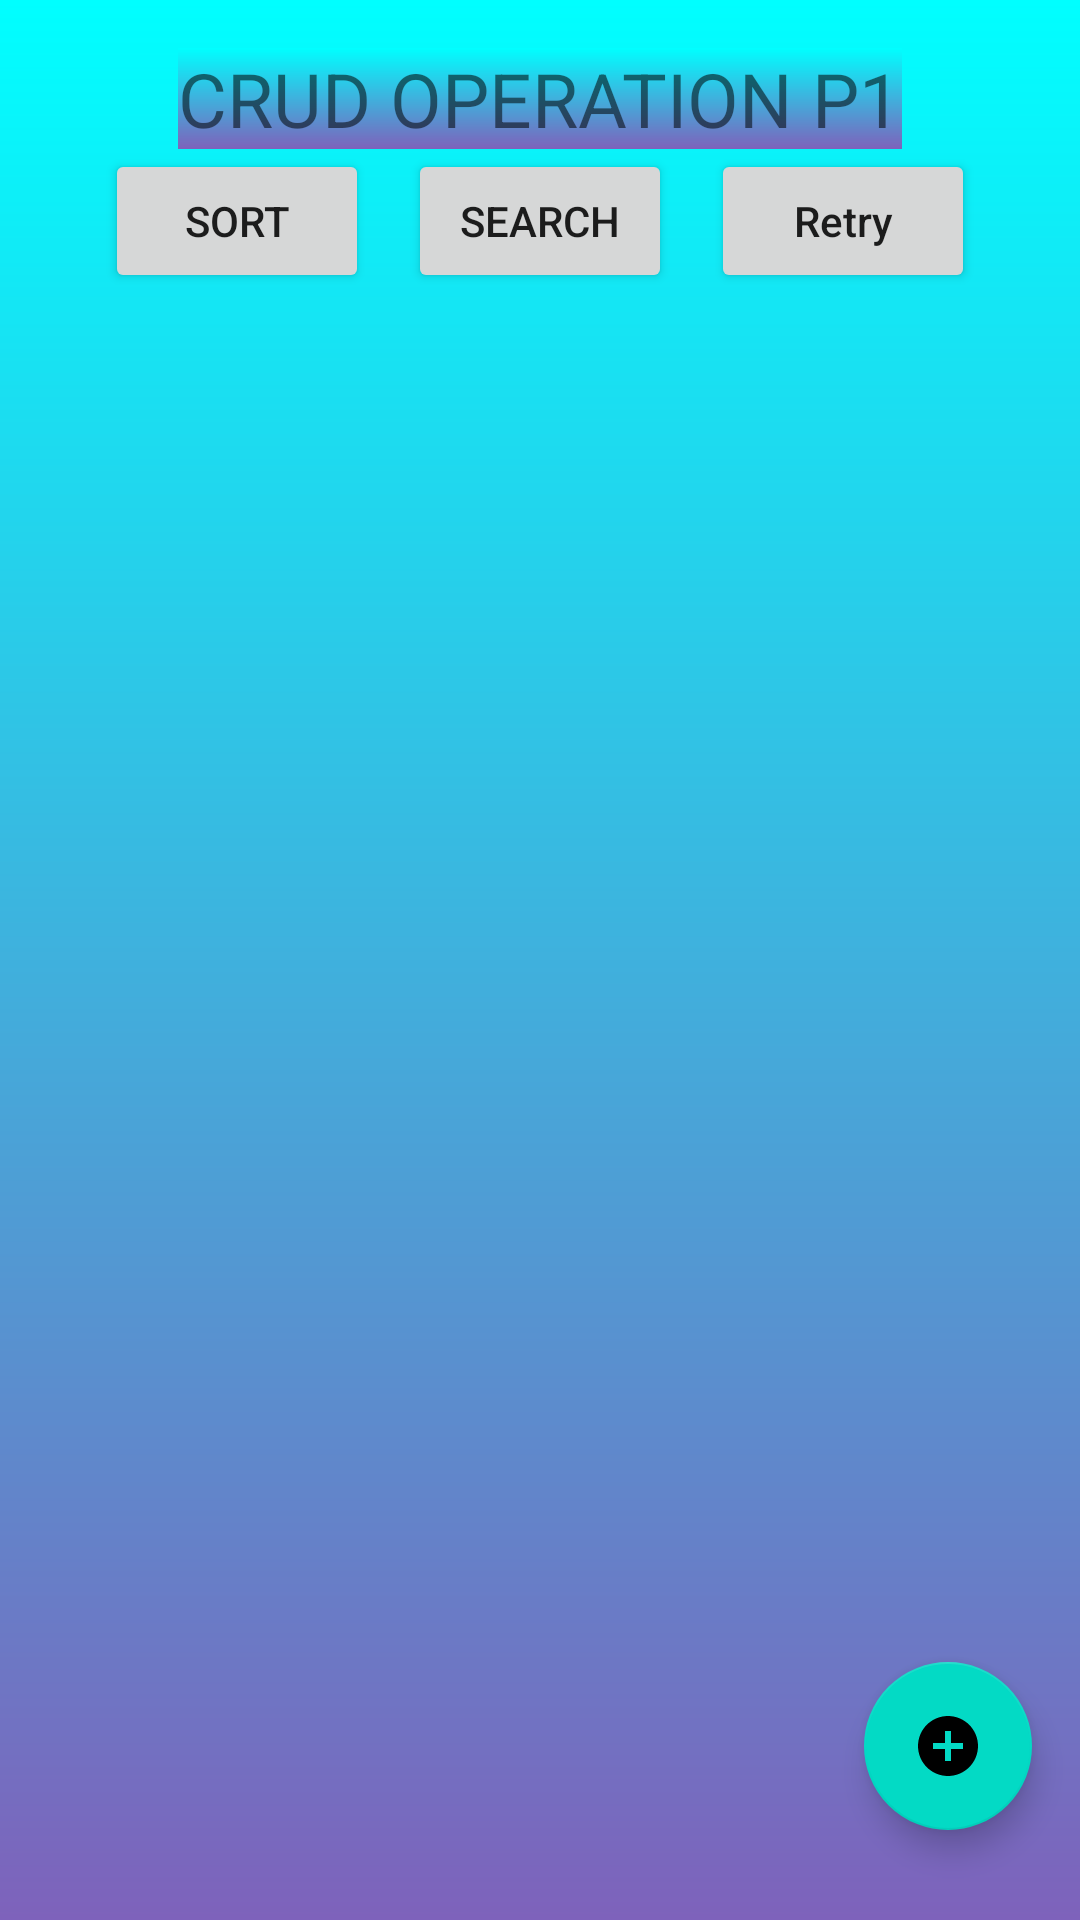

Named icons in this screenshot (1080px x 1920px) and their bounding boxes, rect(x1, y1, x2, y2):
add button: rect(864, 1662, 1032, 1830)
